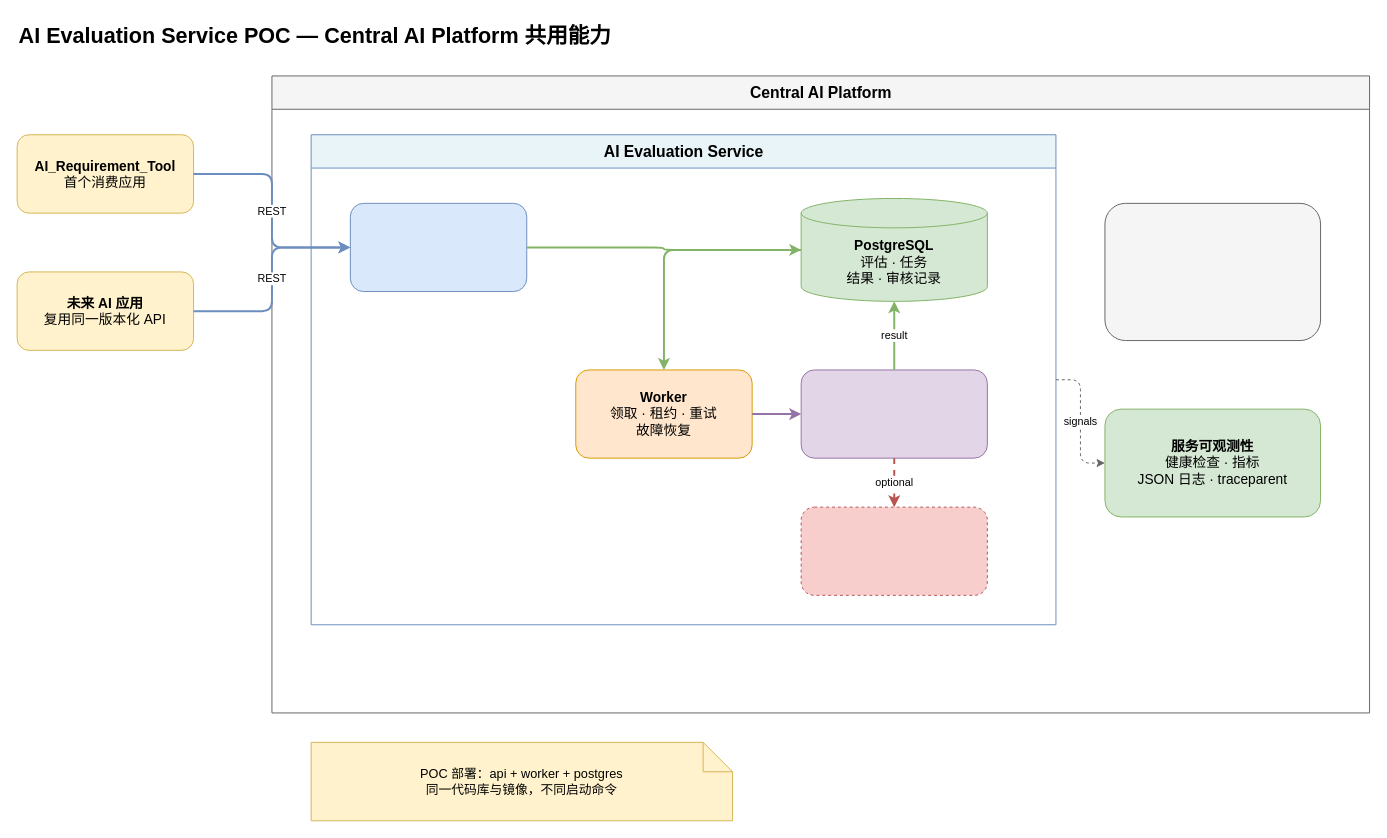
This 1387x838 diagram has some shape labels left out. Each missing label, with the centre of its shape:
"Evaluation Engine 评估器注册表 确定性规则" goes at [893,413].
"REST API 提交 · 查询 · 审核 鉴权 · OpenAPI" goes at [438,247].
"上层平台职责 Gateway 身份（未来） 业务 UI · 发布流程 成本 / 可观测性关联" goes at [1212,271].
"可选 LLM Judge 默认关闭 独立附加意见" goes at [893,550].
